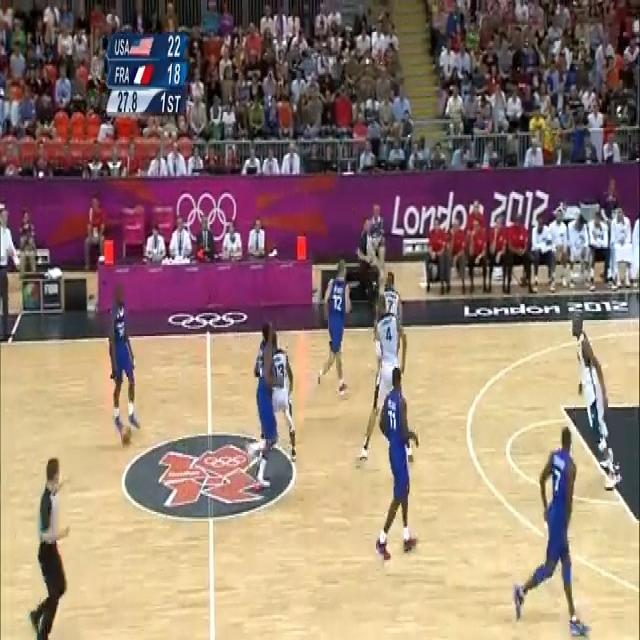basketball: (120, 428, 132, 445)
person: (513, 421, 593, 640), (373, 365, 422, 565), (254, 320, 294, 457), (319, 258, 354, 394), (0, 200, 18, 342), (168, 218, 193, 262), (143, 224, 166, 264), (55, 64, 74, 108), (280, 143, 301, 176), (262, 148, 280, 176)
